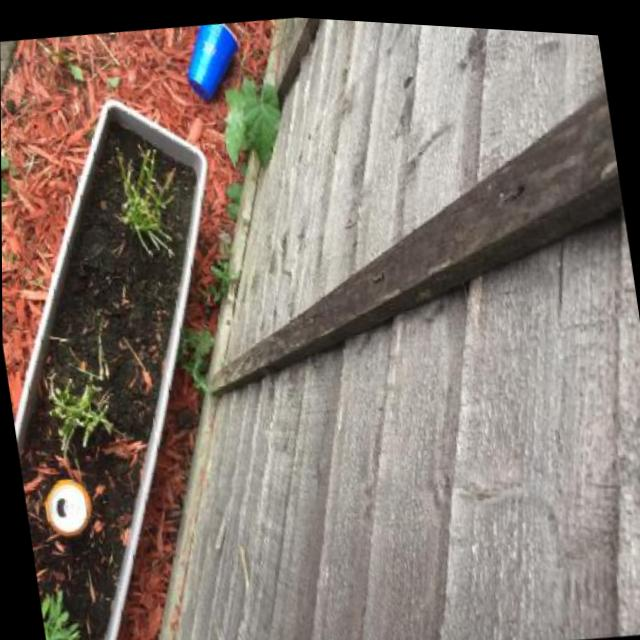metal: (43, 477, 96, 541)
plastic: (179, 21, 247, 108)
